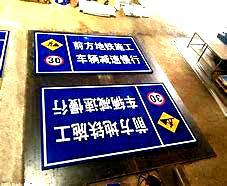sign: (41, 84, 194, 154), (33, 30, 151, 73)
